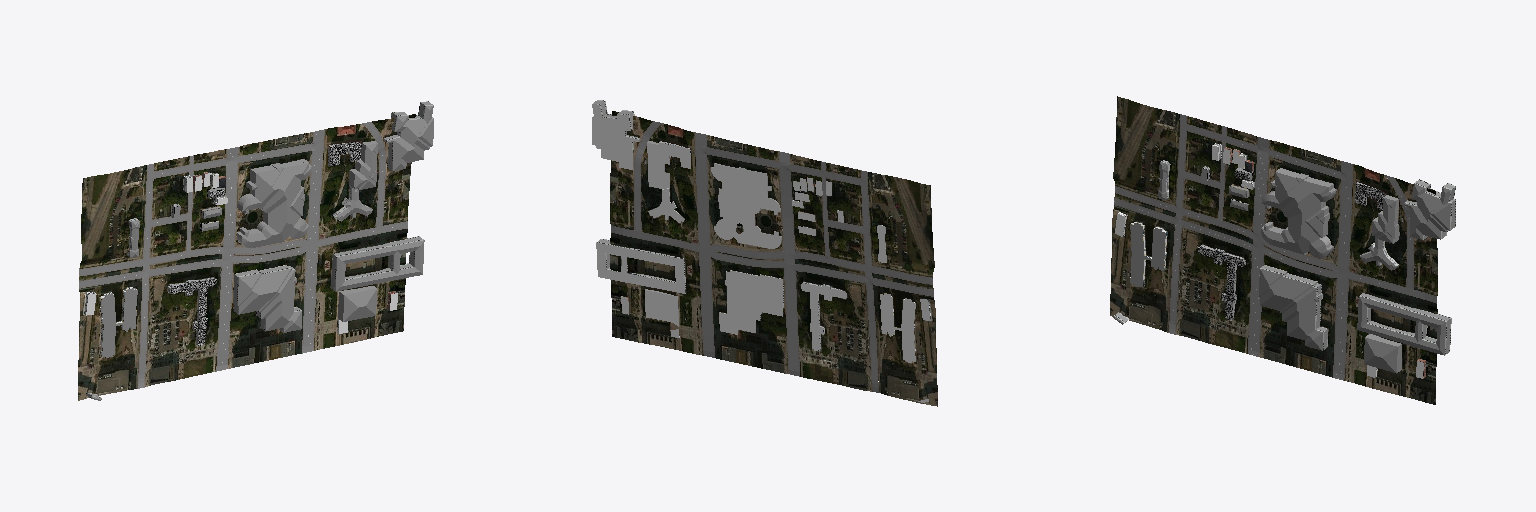
The picture shows the model from 3 angles: view 1: azimuth 30°, elevation 25°; view 2: azimuth 150°, elevation 25°; view 3: azimuth 330°, elevation 25°; orthographic projection.
Parts seen in each view (by area): view 1: shape_node.031_meshId31_name, shape_node.008_meshId8_name, shape_node.029_meshId29_name, shape_node.030_meshId30_name, shape_node.012_meshId12_name, shape_node.015_meshId15_name, shape_node.024_meshId24_name, shape_node.028_meshId28_name, shape_node.001_meshId1_name, shape_node.014_meshId14_name, shape_node.023_meshId23_name; view 2: shape_node.031_meshId31_name, shape_node_meshId0_name, shape_node.029_meshId29_name, shape_node.030_meshId30_name, shape_node.012_meshId12_name; view 3: shape_node.031_meshId31_name, shape_node.008_meshId8_name, shape_node.029_meshId29_name, shape_node.030_meshId30_name, shape_node.012_meshId12_name, shape_node.015_meshId15_name, shape_node.024_meshId24_name, shape_node.028_meshId28_name, shape_node.014_meshId14_name, shape_node.001_meshId1_name.
Boxes of the visible parts, box(x1,y1,x2,y2) form: shape_node.031_meshId31_name: box(120, 114, 415, 391); shape_node.008_meshId8_name: box(101, 105, 433, 357); shape_node.029_meshId29_name: box(79, 122, 407, 388); shape_node.030_meshId30_name: box(78, 170, 125, 400); shape_node.012_meshId12_name: box(79, 122, 407, 388); shape_node.015_meshId15_name: box(170, 142, 361, 345); shape_node.024_meshId24_name: box(87, 102, 432, 397); shape_node.028_meshId28_name: box(238, 141, 376, 321); shape_node.001_meshId1_name: box(86, 173, 397, 333); shape_node.014_meshId14_name: box(86, 101, 432, 398); shape_node.023_meshId23_name: box(236, 142, 376, 319); shape_node.031_meshId31_name: box(610, 111, 895, 397); shape_node_meshId0_name: box(592, 104, 930, 403); shape_node.029_meshId29_name: box(611, 121, 933, 392); shape_node.030_meshId30_name: box(890, 176, 937, 406); shape_node.012_meshId12_name: box(611, 121, 933, 392); shape_node.031_meshId31_name: box(1152, 109, 1437, 404); shape_node.008_meshId8_name: box(1130, 162, 1450, 373); shape_node.029_meshId29_name: box(1114, 115, 1436, 379); shape_node.030_meshId30_name: box(1110, 96, 1157, 326); shape_node.012_meshId12_name: box(1114, 114, 1436, 380); shape_node.015_meshId15_name: box(1198, 170, 1385, 320); shape_node.024_meshId24_name: box(1116, 180, 1454, 353); shape_node.028_meshId28_name: box(1262, 169, 1400, 372); shape_node.014_meshId14_name: box(1114, 179, 1455, 354); shape_node.001_meshId1_name: box(1115, 146, 1423, 378).
Size of the model in its own units: 543 by 342 by 31.51.
Materials: 32 (16 with a texture image).